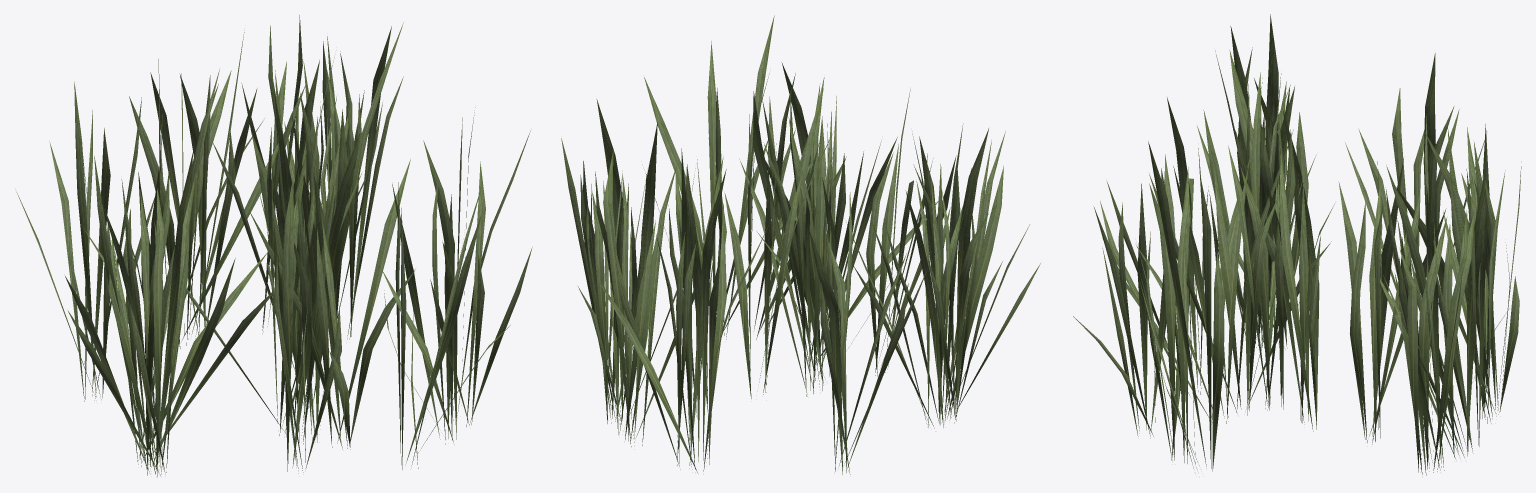
The model's file is tall-grass.glb.
3 renders of one model, left to right at view 1: azimuth 30°, elevation 25°; view 2: azimuth 150°, elevation 25°; view 3: azimuth 270°, elevation 25°, orthographic. The views are drawn at different scales.
Size of the model in its own units: 1.46 by 1.06 by 1.35.
Materials: 1 (1 with a texture image).
